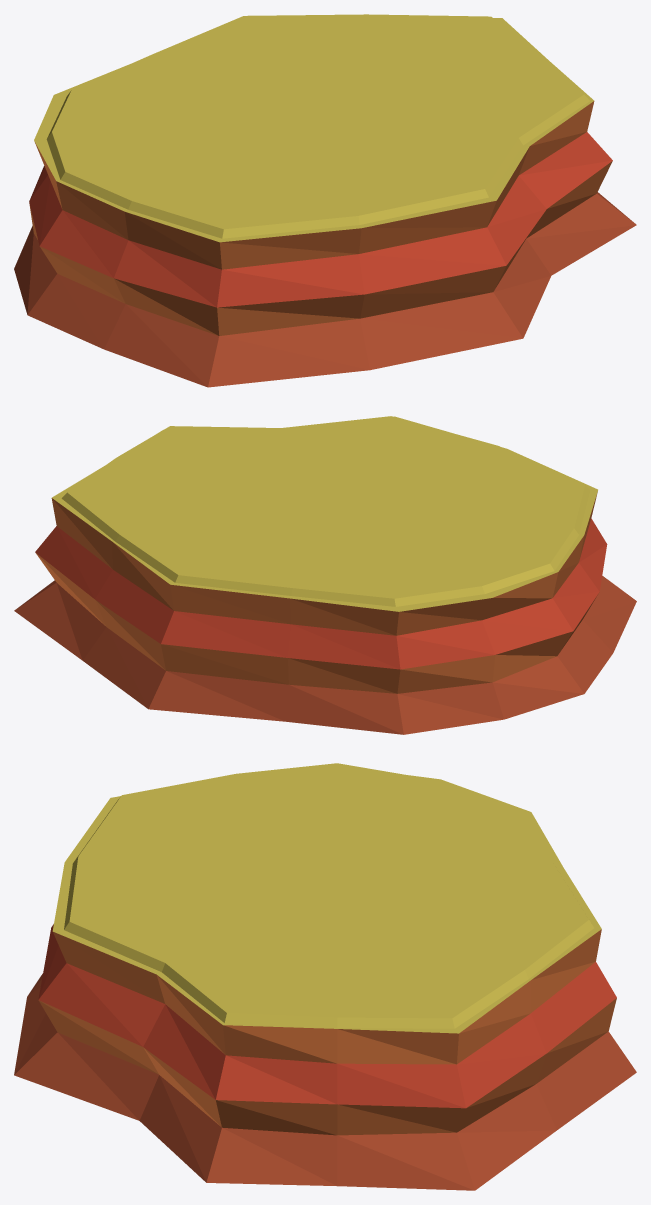
File: CA_Meseta_Grande.obj
3 views of the same model, one above another, from view 1: azimuth 30°, elevation 25°; view 2: azimuth 150°, elevation 25°; view 3: azimuth 270°, elevation 25° (orthographic). The views are drawn at different scales.
Parts seen in each view (by area): view 1: CA_Meseta_Grande; view 2: CA_Meseta_Grande; view 3: CA_Meseta_Grande.
Boxes of the visible parts, bbox=[...] form: CA_Meseta_Grande: bbox=[14, 14, 636, 387]; CA_Meseta_Grande: bbox=[14, 416, 636, 734]; CA_Meseta_Grande: bbox=[14, 763, 636, 1190].
Bounding box in the file's own units: 18.56 × 4.22 × 16.24.
